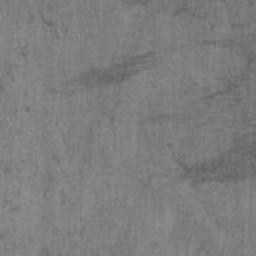Water spot: (141, 31, 256, 189), (46, 49, 157, 97), (124, 0, 256, 19)
